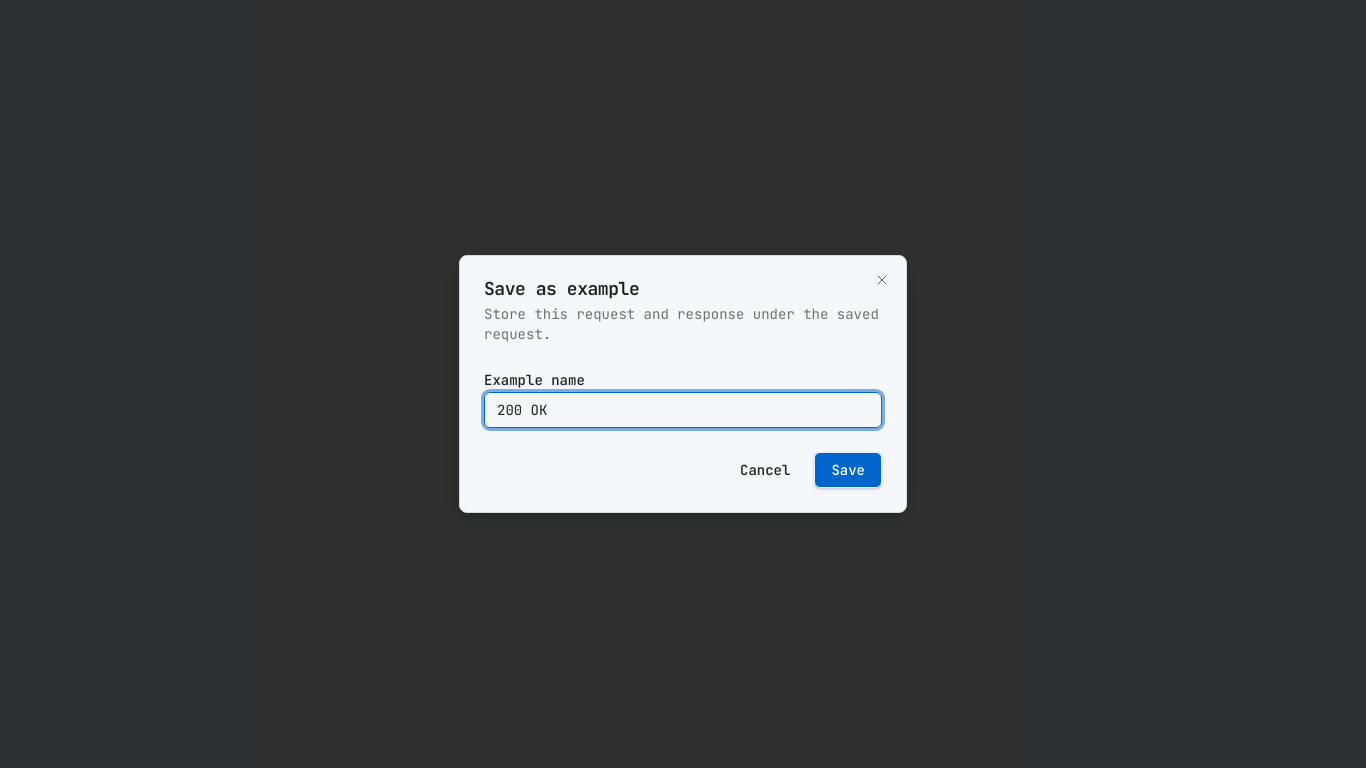
Test: SaveExampleDialog › blocks_empty_and_duplicate_names
The width and height of the screenshot is (1366, 768).
Clear the field labelled "Example name" at (683, 410), box [484,392,882,428]
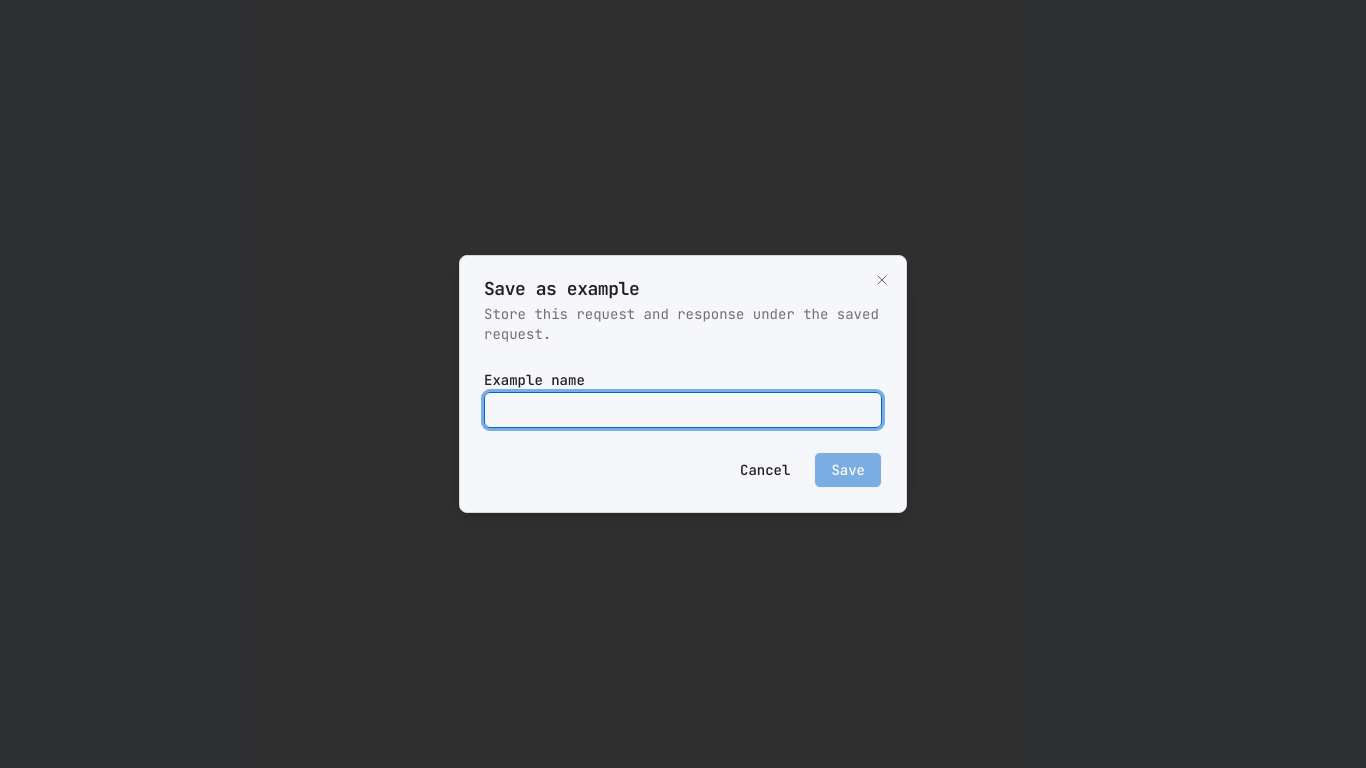
Check: the button "Save" is disabled, box [814,452,882,488]
Type "ok case" into the field labelled "Example name".
click(683, 410); type("ok case")  # box [484,392,882,428]
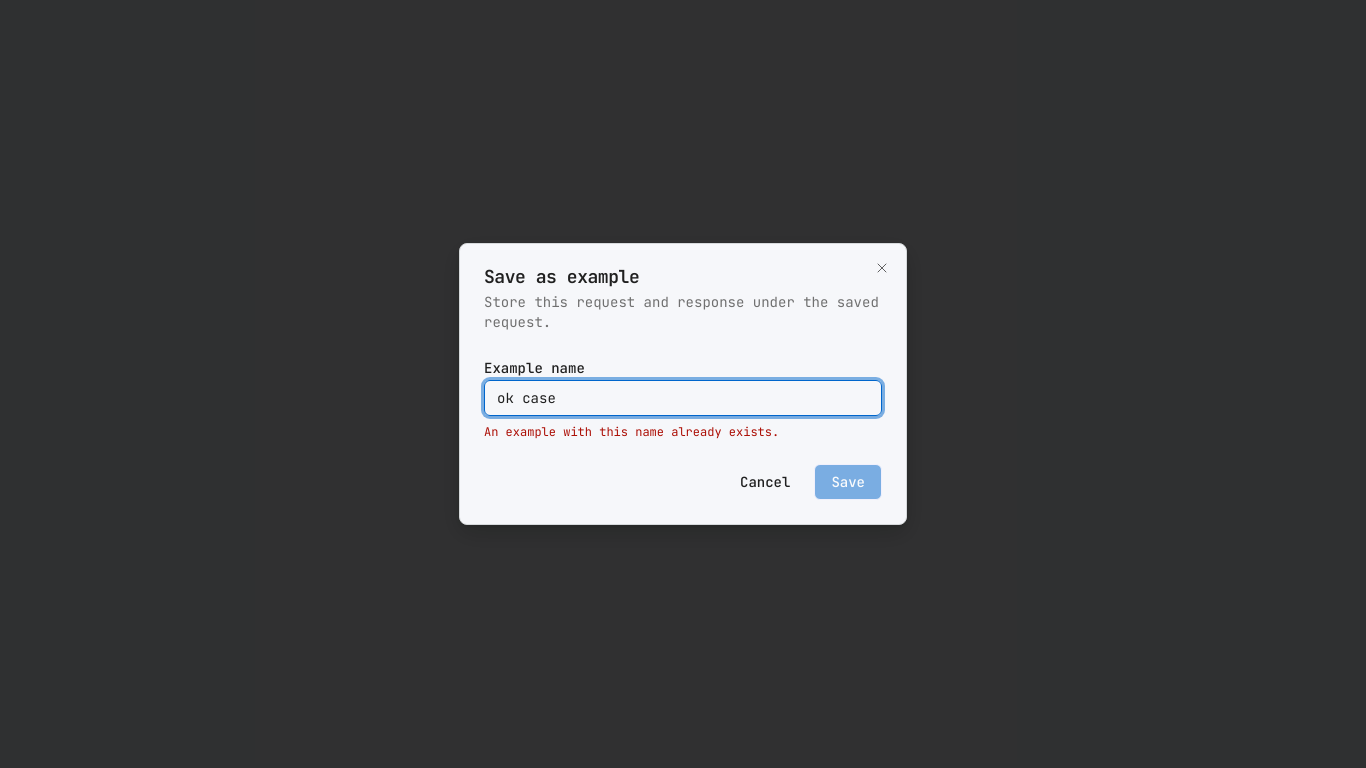
Check: the button "Save" is disabled, box [814,464,882,500]
Check: the text "An example with this name already exists." is shown, box [484,424,779,440]
